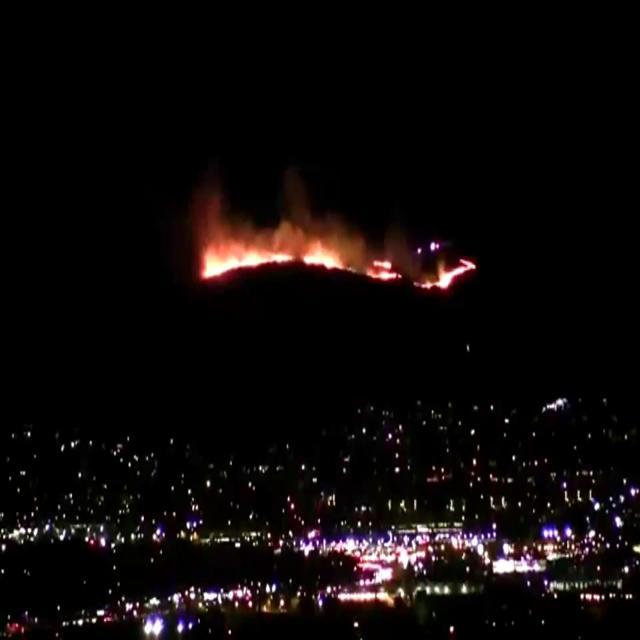Fire: (202, 240, 294, 283), (418, 258, 478, 291), (304, 240, 344, 272), (366, 256, 402, 286)
